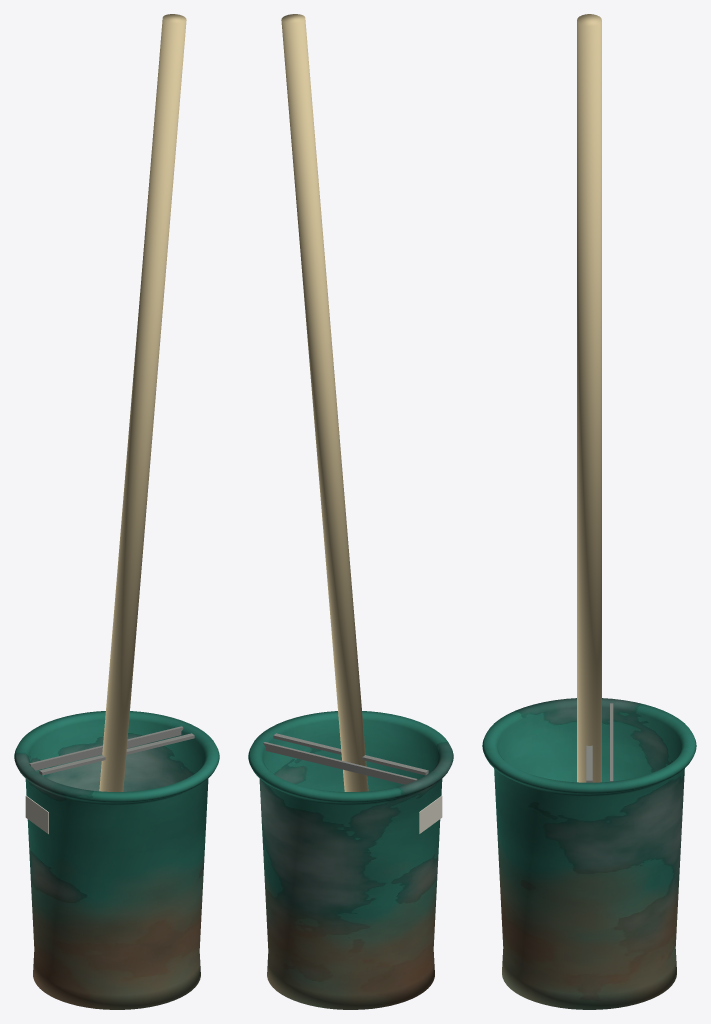
Rendered from feeder.7f2d57b3f8.glb.
3 views of the same model, side by side, from view 1: azimuth 30°, elevation 25°; view 2: azimuth 150°, elevation 25°; view 3: azimuth 270°, elevation 25° (orthographic). The views are drawn at different scales.
Parts seen in each view (by area): view 1: feeder_body, feed_pipe, bar2, bar, paper; view 2: feeder_body, feed_pipe, bar2, bar, paper; view 3: feeder_body, feed_pipe.
Part boxes in pixels (left/top/right/bottom): feeder_body: left=14, top=711, right=219, bottom=1009; feed_pipe: left=99, top=14, right=186, bottom=791; bar2: left=29, top=726, right=183, bottom=770; bar: left=39, top=733, right=194, bottom=775; paper: left=25, top=795, right=48, bottom=833; feeder_body: left=248, top=711, right=453, bottom=1009; feed_pipe: left=281, top=14, right=368, bottom=791; bar2: left=263, top=742, right=417, bottom=784; bar: left=273, top=733, right=428, bottom=775; paper: left=419, top=795, right=442, bottom=833; feeder_body: left=482, top=698, right=696, bottom=1009; feed_pipe: left=577, top=14, right=601, bottom=782.
Bounding box in the file's own units: 0.77 × 3.9 × 0.77.
4 materials, 1 textured.
